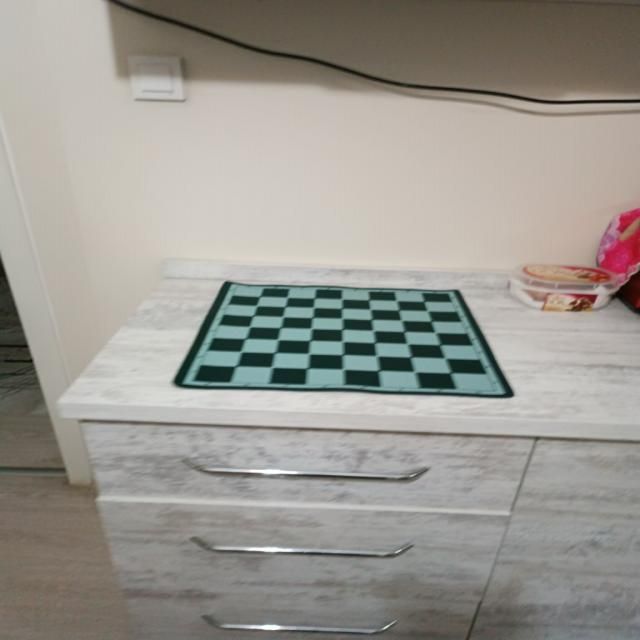corner: (226, 276, 252, 298), (180, 370, 208, 390), (483, 380, 511, 400), (435, 284, 463, 304)
